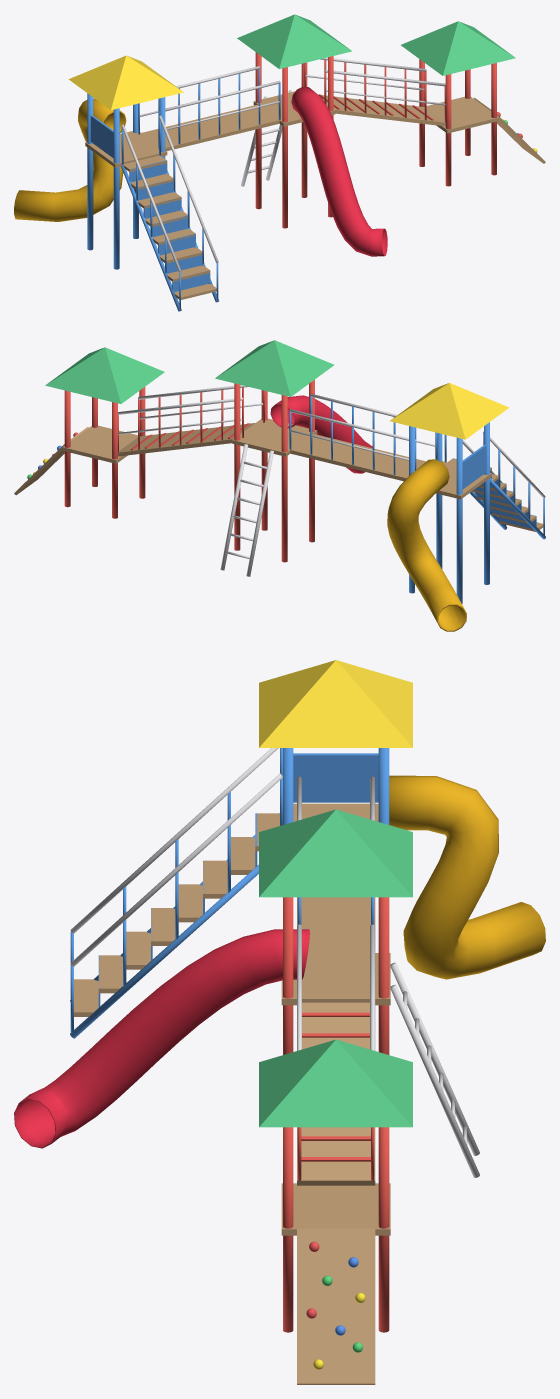
Rendered from JUEGOSS.fbx.
3 renders of one model, top to bottom at view 1: azimuth 30°, elevation 25°; view 2: azimuth 150°, elevation 25°; view 3: azimuth 270°, elevation 25°, orthographic. The views are drawn at different scales.
Visible parts, largest first — view 1: BézierCurve.001, BézierCurve, TorreB_techo.002, TorreA_techo, TorreB_techo.001, Puente_AB_piso, TorreB_poste.010, Pasillo_BC_piso, TorreA_plataforma.002, TorreA_plataforma, TorreC_poste, TorreC_poste.001 (+26 smaller); view 2: BézierCurve, TorreA_techo, TorreB_techo.002, TorreB_techo.001, Puente_AB_piso, TorreB_poste.010, BézierCurve.001, Pasillo_BC_piso, EscaleraVertical_B_peldano.005, TorreA_plataforma.001, TorreA_plataforma.002, TorreB_poste.005 (+13 smaller); view 3: BézierCurve, BézierCurve.001, TorreB_techo.001, TorreB_techo.002, TorreA_techo, ParedEscalada_C_tablero.001, Pasillo_BC_piso, TorreB_poste.010, TorreA_plataforma.002, TorreA_baranda-x, TorreA_plataforma.001, Puente_AB_piso (+15 smaller).
Part boxes in pixels (bbox=[...]): BézierCurve.001: bbox=[291, 86, 387, 256]; BézierCurve: bbox=[14, 98, 126, 221]; TorreB_techo.002: bbox=[401, 21, 515, 75]; TorreA_techo: bbox=[68, 55, 183, 109]; TorreB_techo.001: bbox=[237, 14, 351, 69]; Puente_AB_piso: bbox=[140, 104, 279, 151]; TorreB_poste.010: bbox=[419, 59, 496, 186]; Pasillo_BC_piso: bbox=[322, 95, 445, 126]; TorreA_plataforma.002: bbox=[426, 96, 499, 133]; TorreA_plataforma: bbox=[85, 131, 167, 167]; TorreC_poste: bbox=[113, 108, 119, 269]; TorreC_poste.001: bbox=[87, 93, 93, 250]; BézierCurve: bbox=[387, 459, 466, 631]; TorreA_techo: bbox=[389, 383, 509, 439]; TorreB_techo.002: bbox=[45, 347, 164, 403]; TorreB_techo.001: bbox=[215, 340, 334, 396]; Puente_AB_piso: bbox=[290, 434, 425, 481]; TorreB_poste.010: bbox=[64, 387, 145, 518]; BézierCurve.001: bbox=[270, 395, 372, 473]; Pasillo_BC_piso: bbox=[118, 423, 254, 456]; EscaleraVertical_B_peldano.005: bbox=[220, 444, 273, 576]; TorreA_plataforma.001: bbox=[232, 418, 317, 456]; TorreA_plataforma.002: bbox=[62, 425, 137, 463]; TorreB_poste.005: bbox=[281, 395, 287, 562]; BézierCurve: bbox=[389, 775, 545, 979]; BézierCurve.001: bbox=[14, 929, 309, 1148]; TorreB_techo.001: bbox=[259, 809, 412, 897]; TorreB_techo.002: bbox=[259, 1039, 412, 1127]; TorreA_techo: bbox=[259, 660, 412, 747]; ParedEscalada_C_tablero.001: bbox=[297, 1228, 375, 1384]; Pasillo_BC_piso: bbox=[297, 1002, 375, 1185]; TorreB_poste.010: bbox=[283, 1127, 389, 1332]; TorreA_plataforma.002: bbox=[281, 1183, 390, 1235]; TorreA_baranda-x: bbox=[293, 753, 378, 802]; TorreA_plataforma.001: bbox=[281, 953, 390, 1005]; Puente_AB_piso: bbox=[297, 897, 375, 953].
Bounding box in the file's own units: 1141 × 461 × 610.
